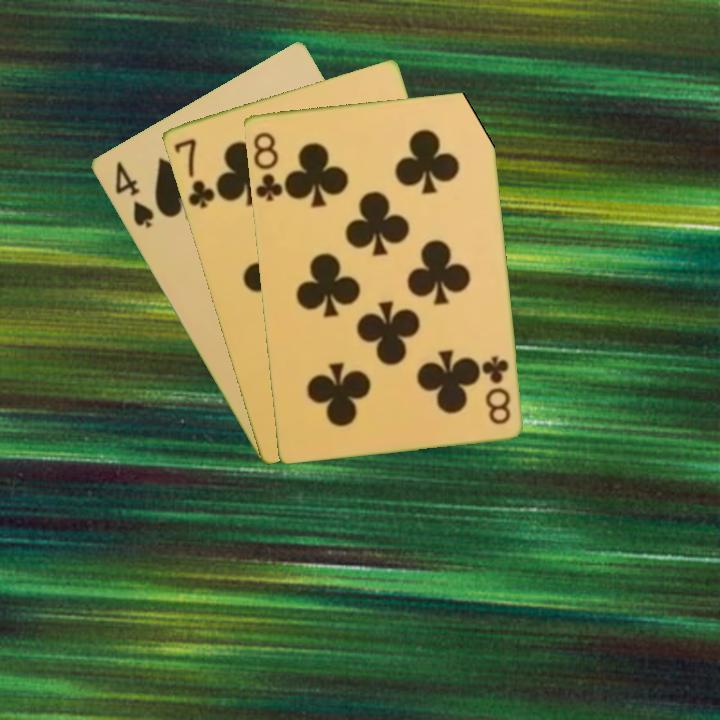4s: (110, 157, 157, 231)
7c: (170, 134, 217, 211)
8c: (249, 128, 288, 204), (478, 351, 513, 427)
